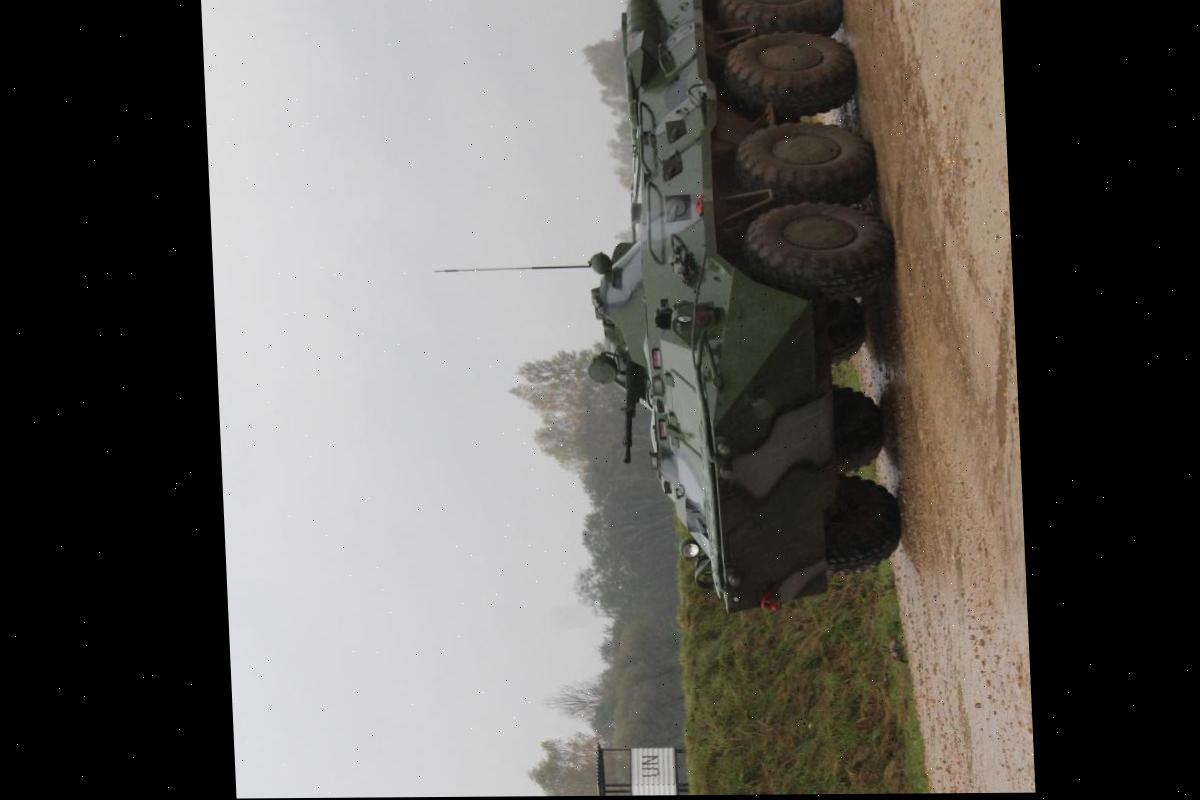tank: (568, 0, 908, 619)
